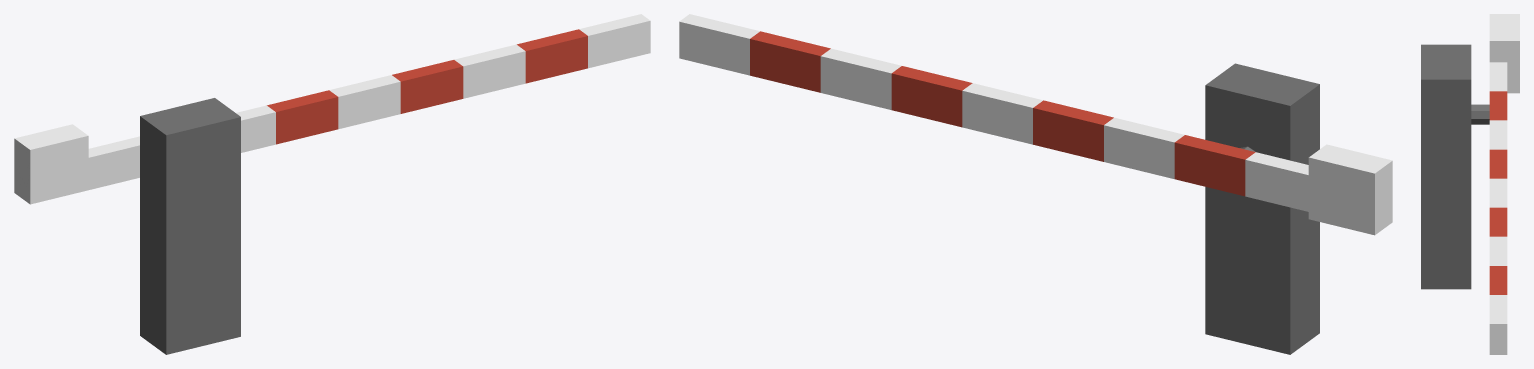
File: BarrierWithPivot.fbx
The picture shows the model from 3 angles, left to right: view 1: azimuth 30°, elevation 25°; view 2: azimuth 150°, elevation 25°; view 3: azimuth 270°, elevation 25°; orthographic projection. The views are drawn at different scales.
Visible parts, largest first — view 1: Barrier, Barrier Base; view 2: Barrier, Barrier Base; view 3: Barrier Base, Barrier.
Part boxes in pixels (x1=…): Barrier: x1=14, y1=14, x2=650, y2=204; Barrier Base: x1=140, y1=98, x2=240, y2=354; Barrier: x1=679, y1=14, x2=1392, y2=235; Barrier Base: x1=1205, y1=63, x2=1319, y2=354; Barrier Base: x1=1421, y1=44, x2=1489, y2=289; Barrier: x1=1489, y1=14, x2=1519, y2=354.
Bounding box in the file's own units: 594 × 201 × 85.85.
